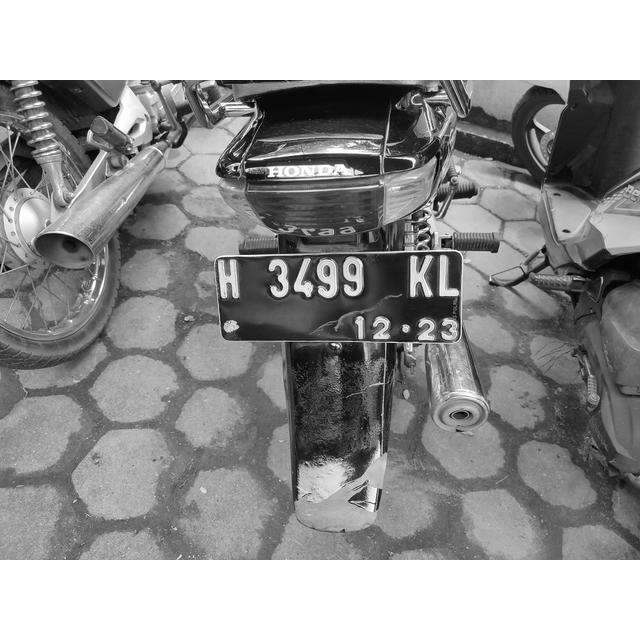license: (217, 253, 459, 344)
